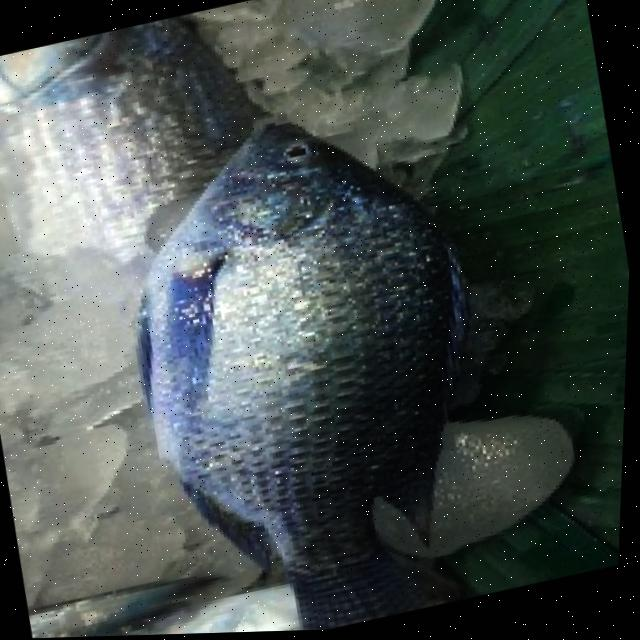Fresh: (79, 60, 547, 638)
